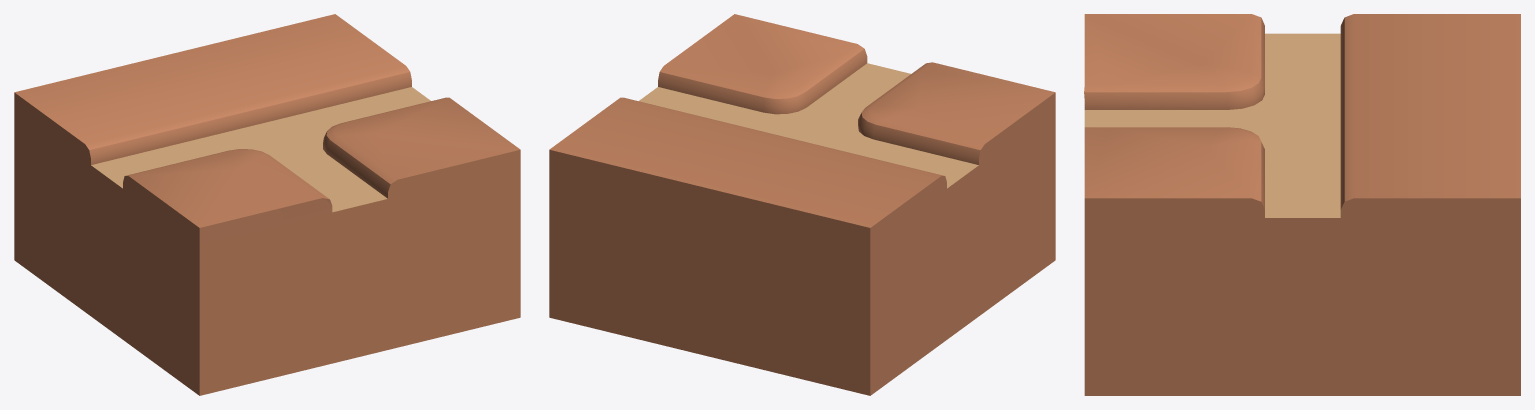
File: square_rock_roadD.glb
3 renders of one model, left to right at view 1: azimuth 30°, elevation 25°; view 2: azimuth 150°, elevation 25°; view 3: azimuth 270°, elevation 25°, orthographic. The views are drawn at different scales.
Parts seen in each view (by area): view 1: square_rock_roadD; view 2: square_rock_roadD; view 3: square_rock_roadD.
Boxes of the visible parts, x1,y1,x2,y2 form: square_rock_roadD: (14, 14, 520, 395); square_rock_roadD: (549, 14, 1055, 395); square_rock_roadD: (1084, 14, 1520, 395).
Size of the model in its own units: 2 by 1 by 2.
